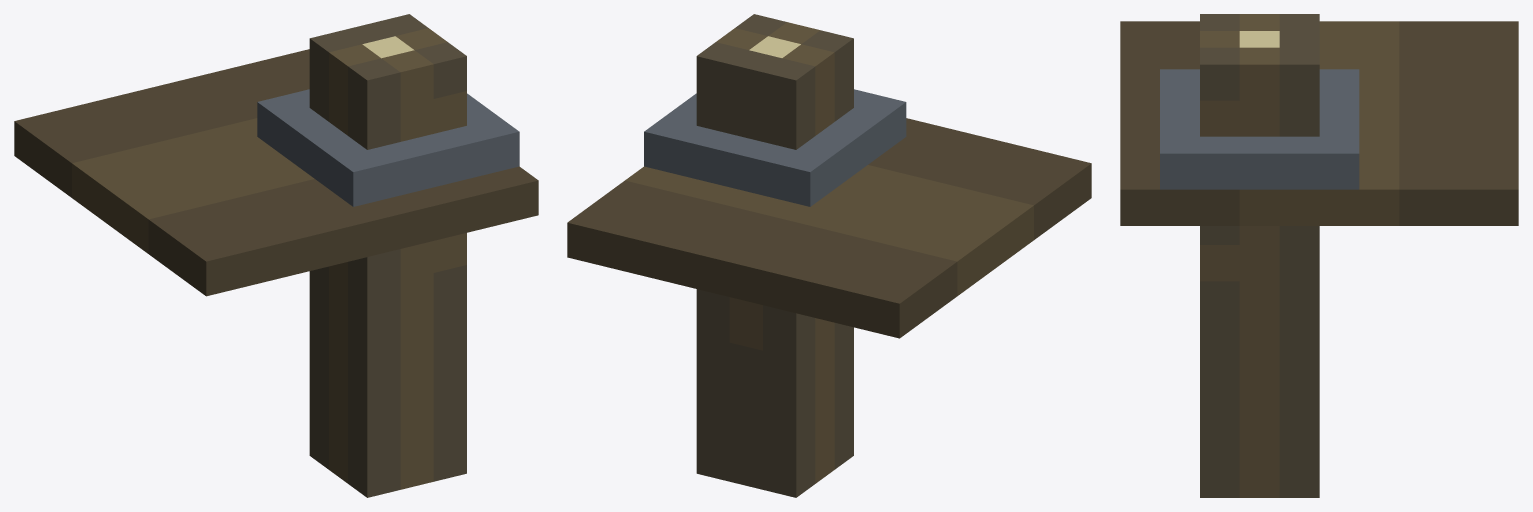
File: scaffold_top_3.DAE
3 views of the same model, side by side, from view 1: azimuth 30°, elevation 25°; view 2: azimuth 150°, elevation 25°; view 3: azimuth 270°, elevation 25° (orthographic). The views are drawn at different scales.
Visible parts, largest first — view 1: scaffold_top_3; view 2: scaffold_top_3; view 3: scaffold_top_3.
Boxes of the visible parts, bbox=[...] form: scaffold_top_3: bbox=[14, 14, 538, 497]; scaffold_top_3: bbox=[567, 14, 1091, 497]; scaffold_top_3: bbox=[1120, 14, 1518, 497].
Size of the model in its own units: 10 by 10 by 12.
Materials: 1 (1 with a texture image).
